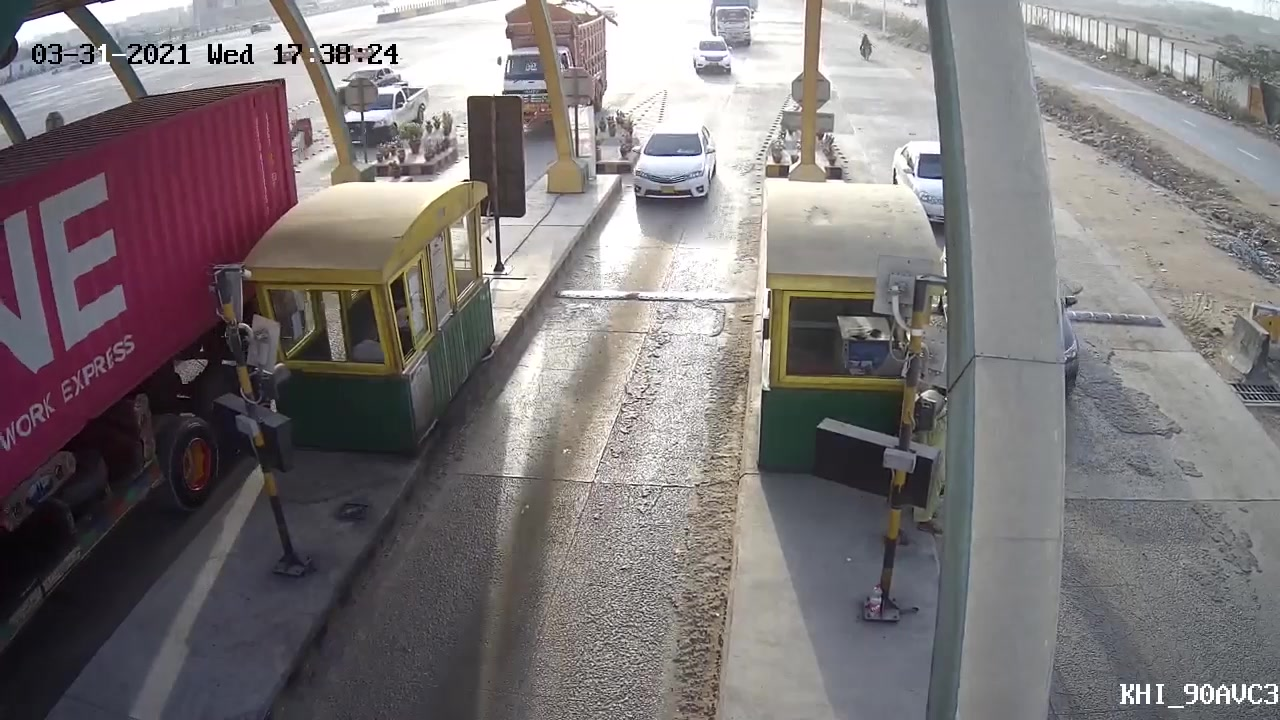F1: (627, 125, 738, 205)
